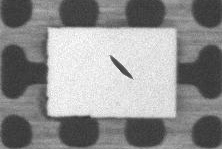DIE_INK: (159, 35, 201, 54)
